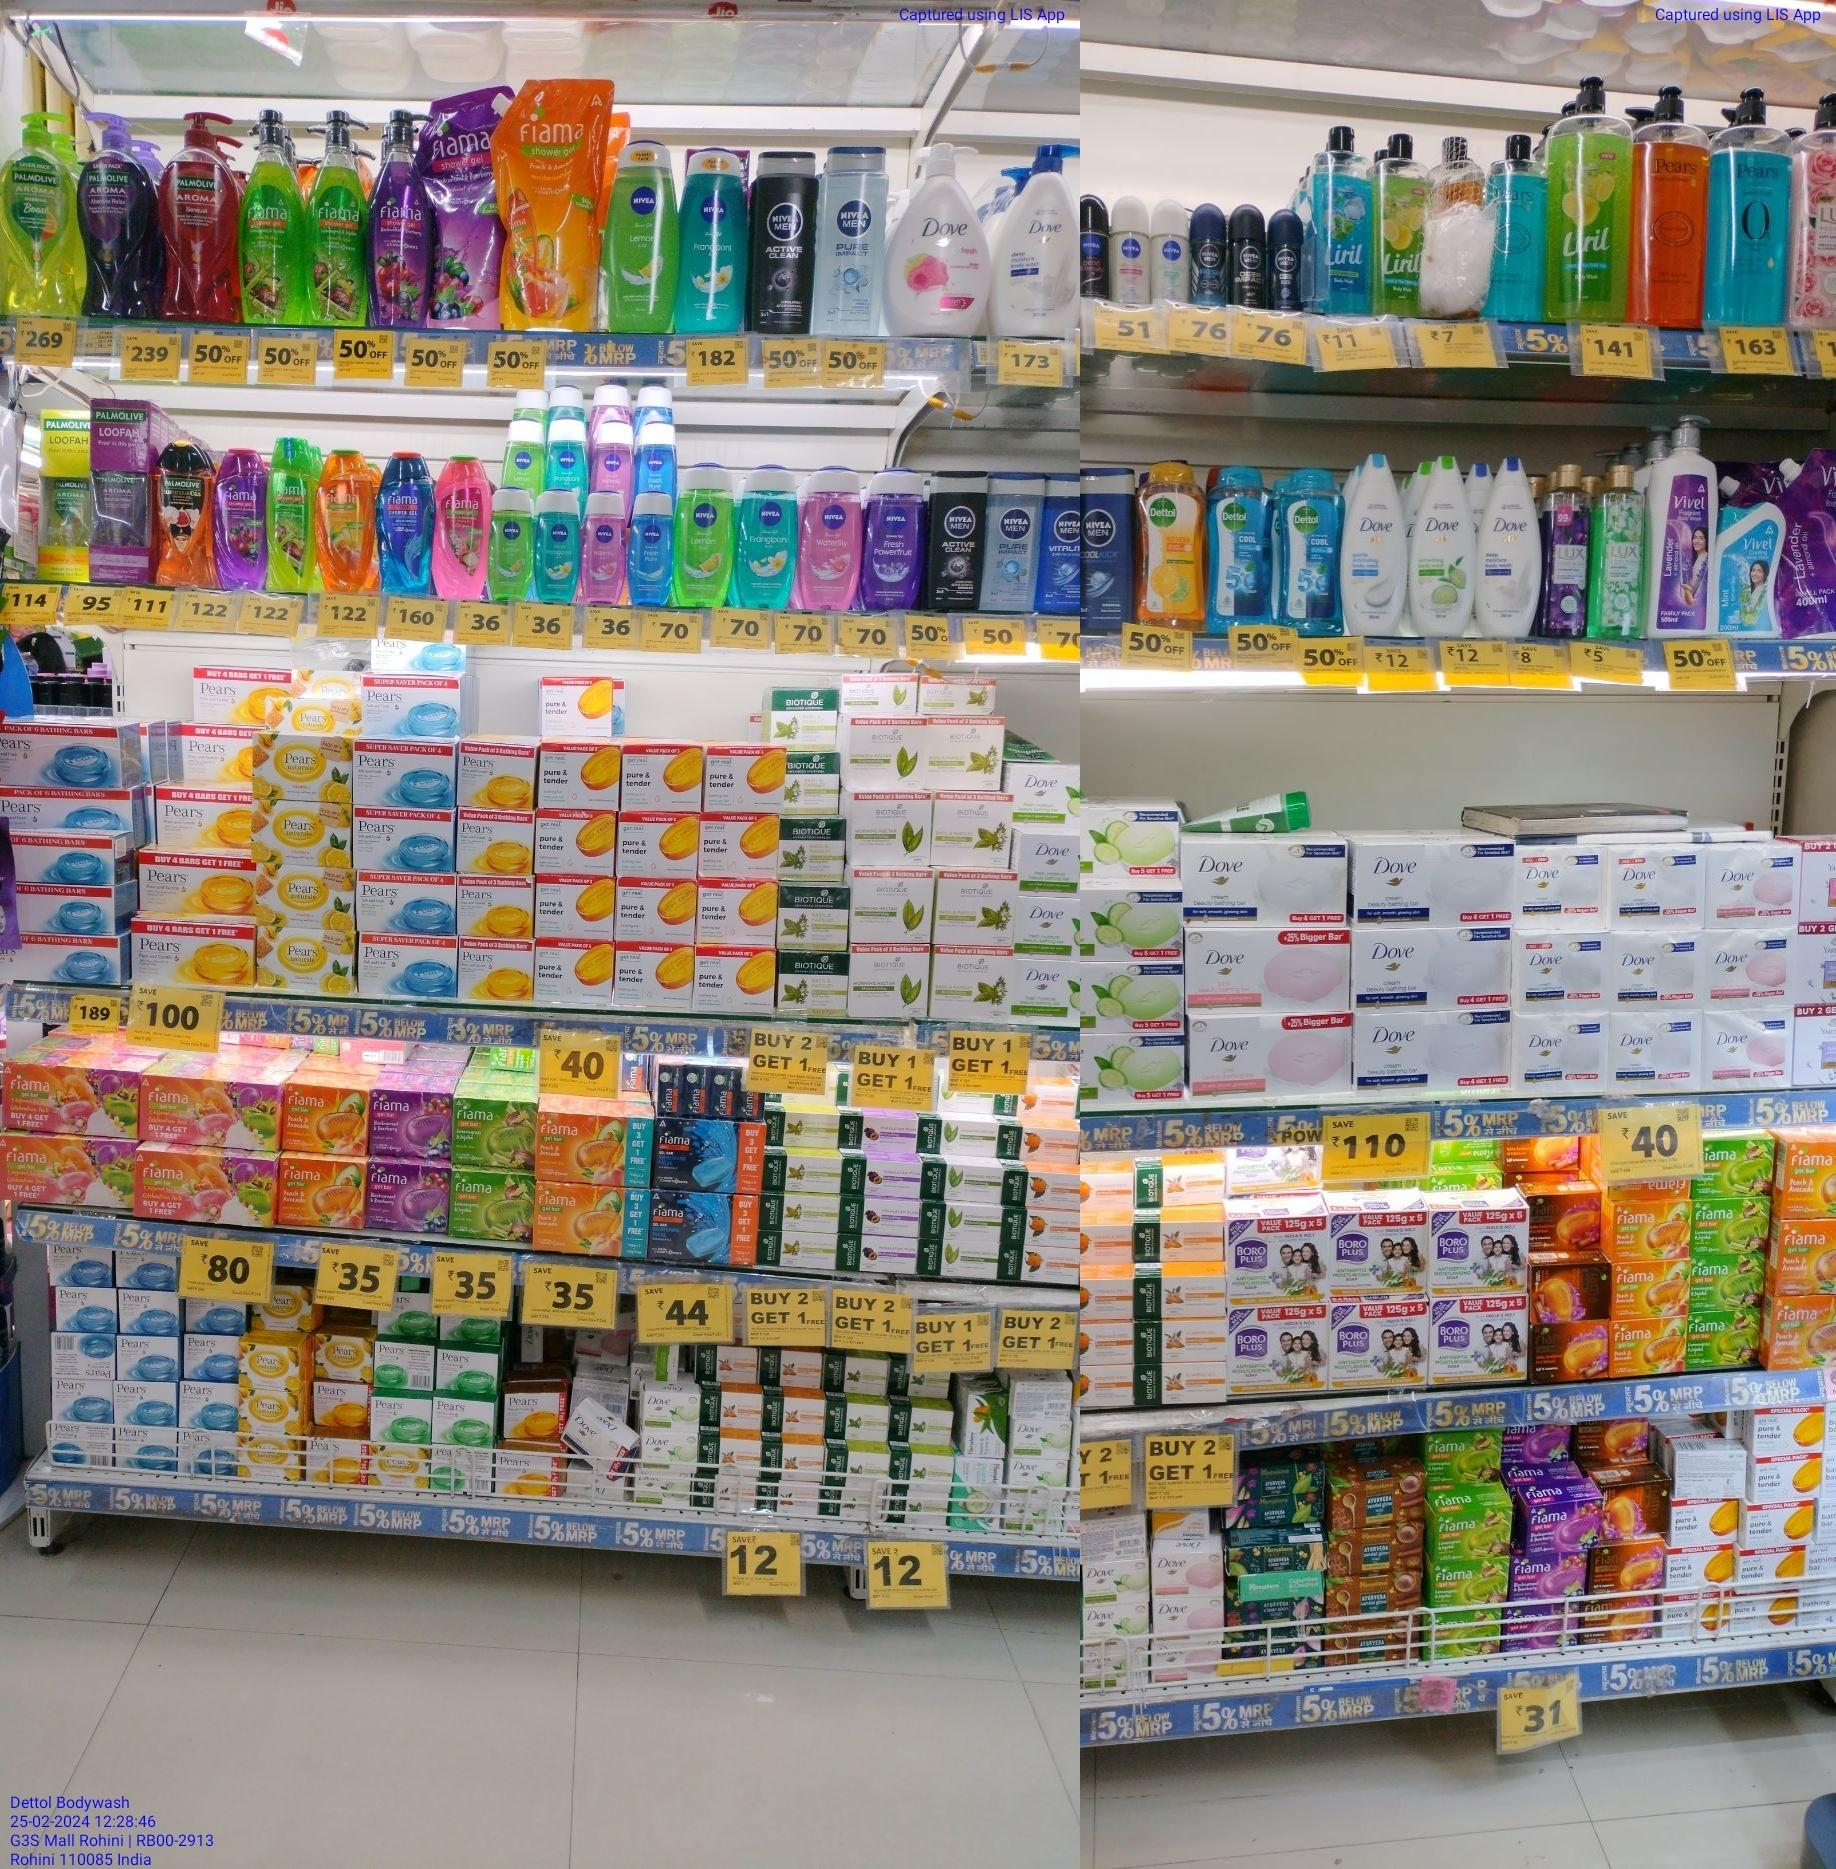Dettol_Bodywash_Cool: (1209, 464, 1273, 634), (1283, 467, 1342, 635)
Dettol_Bodywash_Refresh: (1138, 462, 1204, 629)
Dove_Deep_Moisture_Body_Wash_250ML: (1478, 455, 1542, 640)
Dove_Gentle_Exfoliating_Body_Wash_250ML: (1342, 452, 1406, 635)
Dove_Refreshing_Body_Wash_250ML: (1409, 457, 1475, 637)
Fiama_Shower_Gel_Lemongrass_and_Jojoba_250ML: (266, 435, 311, 592)
Fiama_Shower_Gel_Patchouli_and_Macadamia_250ML: (434, 455, 489, 600)
Fiama_Shower_Gel_Peach_and_Avocado_250ML: (314, 450, 375, 592)
Liril_Cooling_Mint_Body_Wash_250ML: (1491, 133, 1555, 321), (1311, 126, 1372, 313)
Liril_Lime_and_Tea_Tree_Oil_Body_Wash_250ML: (1374, 129, 1427, 318)
Lux_Black_Orchid_Scent_and_Juniper_Oil_Body_Wash_245ML: (1550, 464, 1587, 639)
Lux_Body_Wash_Skin_Detox_Freesia_Scent_and_Alove_Vera_245ML: (1597, 464, 1649, 639)
Nivea_Shower_Gel_Frangipani_and_Oil_250ML: (679, 150, 748, 334), (740, 466, 797, 607)
Nivea_Shower_Gel_Fresh_Powerfruit_250ML: (864, 469, 923, 610)
Nivea_Shower_Gel_Lemon_and_Oil_250ML: (607, 140, 674, 333), (674, 462, 731, 607)
Nivea_Shower_Gel_Waterlily_and_Oil_250ML: (805, 466, 863, 610)
Palmolive_Luminous_Oils_With_White_Orchid_Shower_Gel_250ML: (156, 440, 217, 588)
